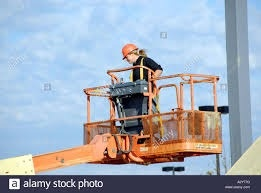helmet: (120, 42, 139, 61)
person with partial safety: (120, 42, 163, 82)
